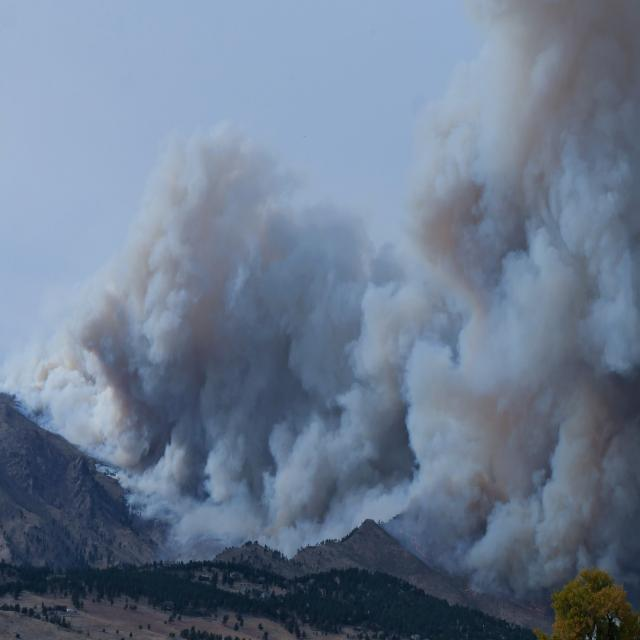Smoke: (162, 163, 602, 518)
